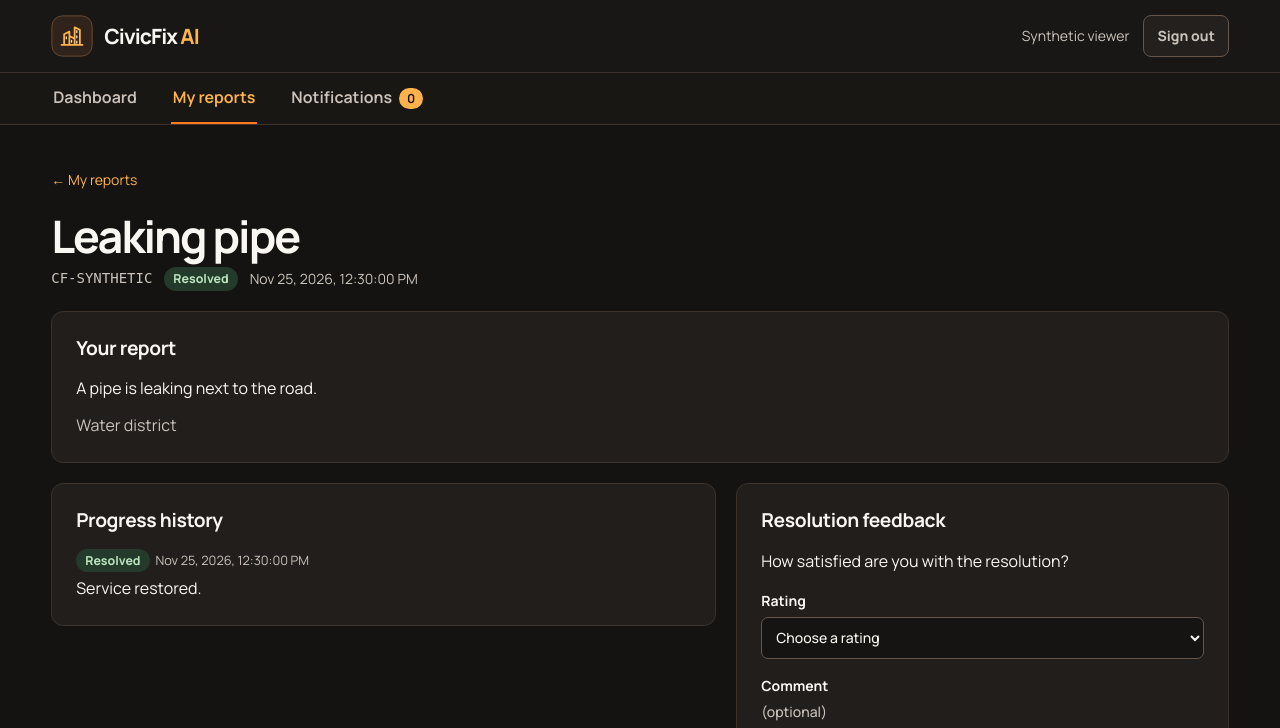
citizen experience › shows dated progress and submits feedback from a resolved complaint
Select "5 · Very satisfied" in the dropdown labelled "Rating" at coordinates (982, 638), box left=761, top=616, right=1204, bottom=658
(page scrolled)
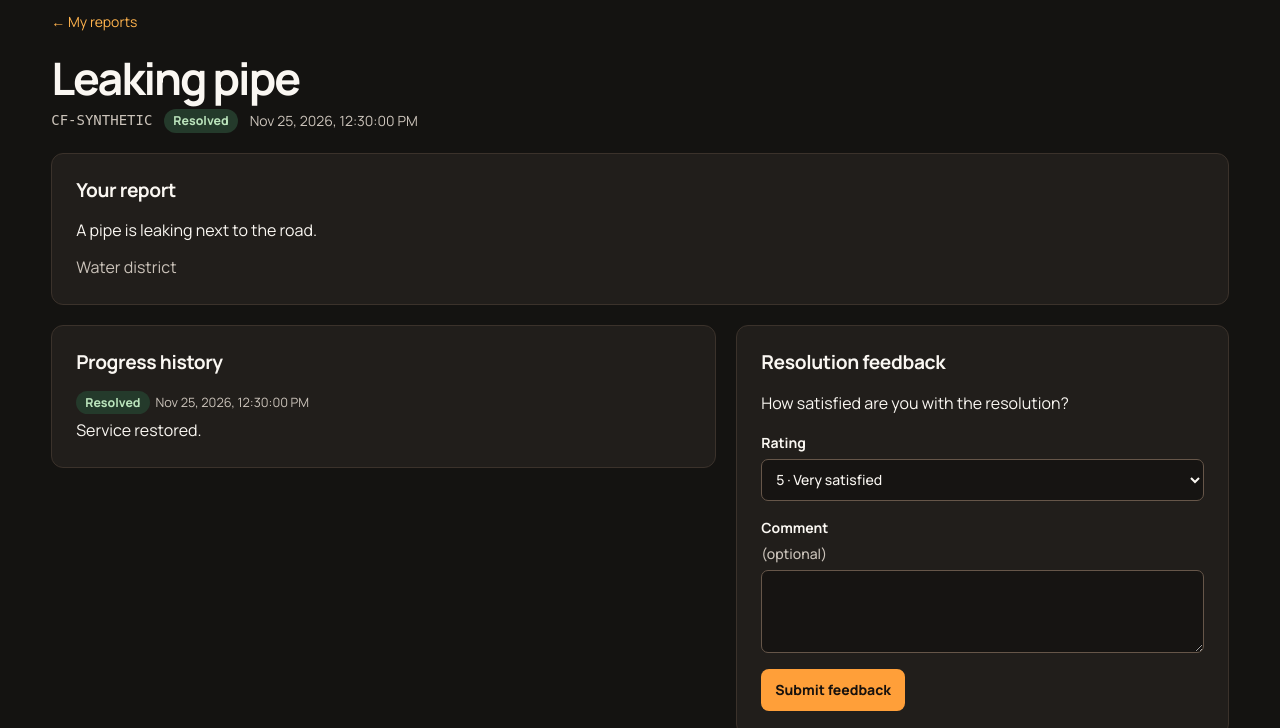
Type "Restored" into the text box labelled "Comment (optional)" at coordinates (982, 611), box left=761, top=570, right=1204, bottom=653
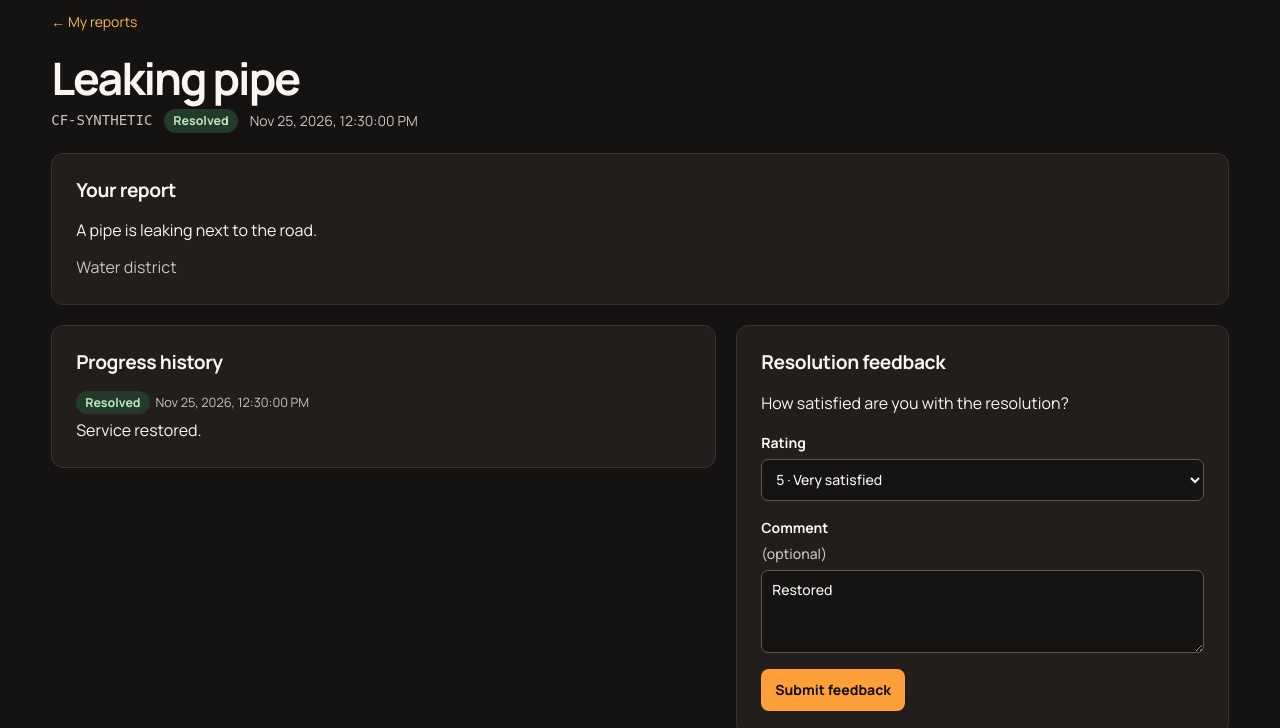
Click the button "Submit feedback" at coordinates (833, 690), box left=761, top=669, right=905, bottom=711
(page scrolled)
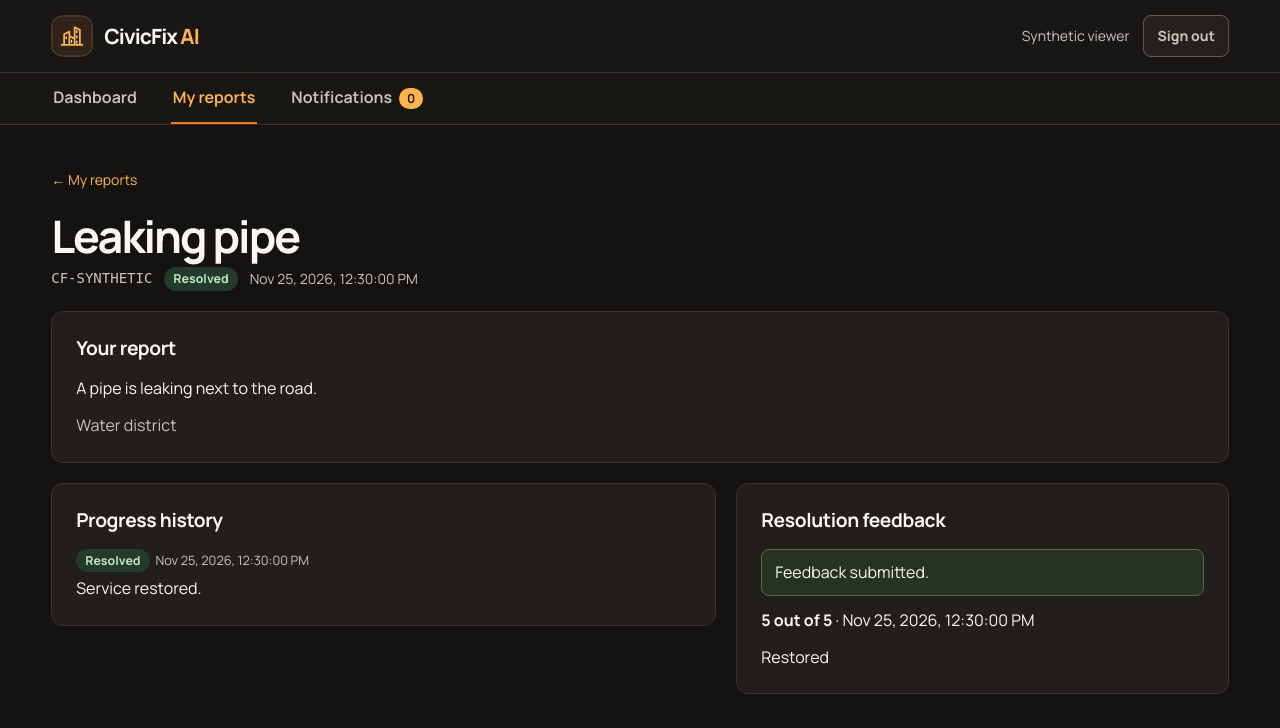
expect the text "Feedback submitted." is shown: met, box left=761, top=549, right=1204, bottom=596
